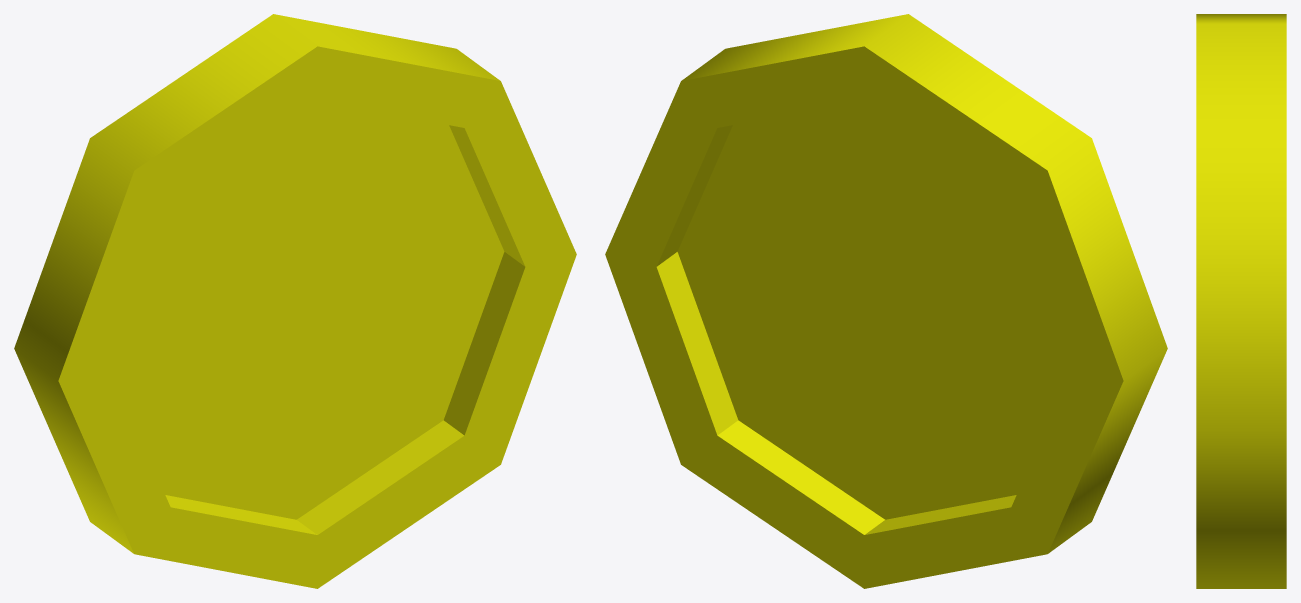
The model's file is Coin.fbx.
3 views of the same model, side by side, from view 1: azimuth 30°, elevation 25°; view 2: azimuth 150°, elevation 25°; view 3: azimuth 270°, elevation 25° (orthographic). The views are drawn at different scales.
Visible parts, largest first — view 1: pCylinder64; view 2: pCylinder64; view 3: pCylinder64.
Boxes of the visible parts, left/top/right/bottom form: pCylinder64: left=14, top=14, right=576, bottom=588; pCylinder64: left=605, top=14, right=1167, bottom=588; pCylinder64: left=1196, top=14, right=1286, bottom=588.
Size of the model in its own units: 60 by 60 by 8.87.
